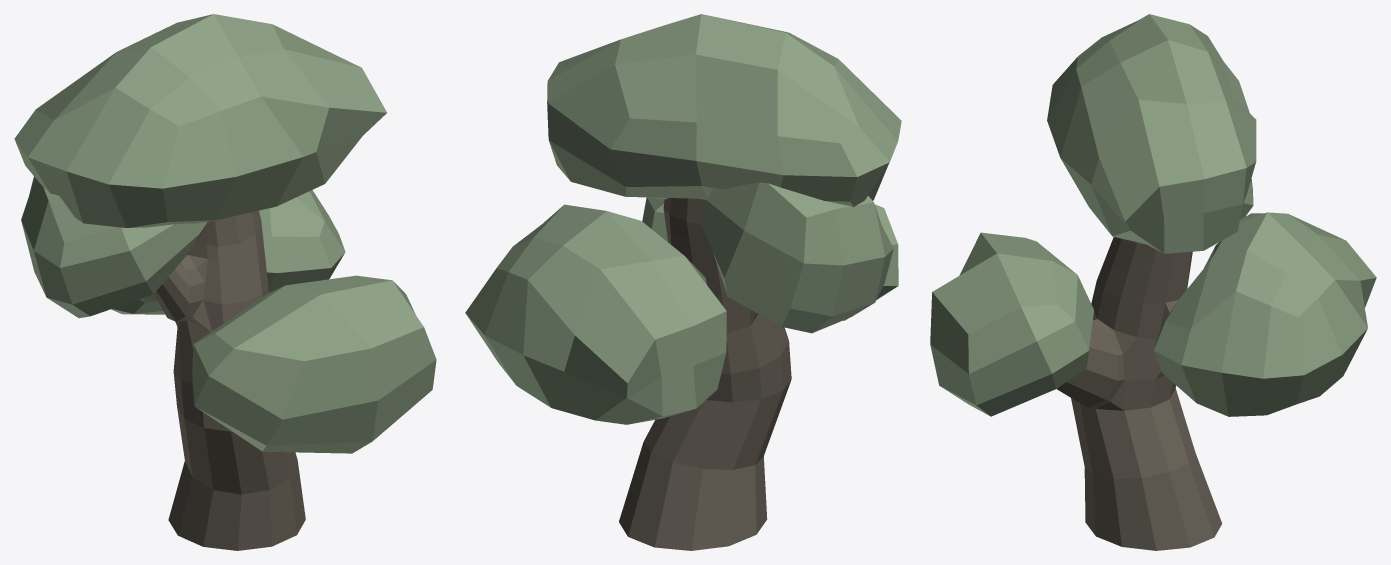
Rendered from Tree_4.fbx.
The picture shows the model from 3 angles, left to right: view 1: azimuth 30°, elevation 25°; view 2: azimuth 150°, elevation 25°; view 3: azimuth 270°, elevation 25°; orthographic projection. The views are drawn at different scales.
Visible parts, largest first — view 1: pCube81, pCube78, Tree3, pCube80, pCube79; view 2: pCube81, pCube79, Tree3, pCube80, pCube78; view 3: pCube81, pCube79, Tree3, pCube78.
Part boxes in pixels (left/top/right/bottom): pCube81: left=14, top=14, right=386, bottom=227; pCube78: left=192, top=275, right=436, bottom=453; Tree3: left=154, top=210, right=305, bottom=550; pCube80: left=21, top=176, right=207, bottom=318; pCube79: left=111, top=190, right=345, bottom=314; pCube81: left=547, top=14, right=901, bottom=206; pCube79: left=465, top=204, right=726, bottom=424; Tree3: left=619, top=198, right=791, bottom=550; pCube80: left=701, top=182, right=893, bottom=333; pCube78: left=642, top=197, right=898, bottom=320; pCube81: left=1047, top=14, right=1256, bottom=253; pCube79: left=1154, top=212, right=1376, bottom=416; Tree3: left=1057, top=237, right=1222, bottom=550; pCube78: left=930, top=232, right=1093, bottom=416.
Bounding box in the file's own units: 3.75 × 5.16 × 4.39.
